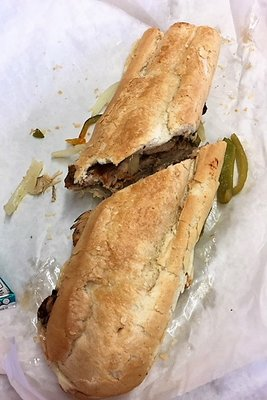soup: (24, 6, 247, 398), (33, 144, 243, 399), (64, 23, 229, 196)
